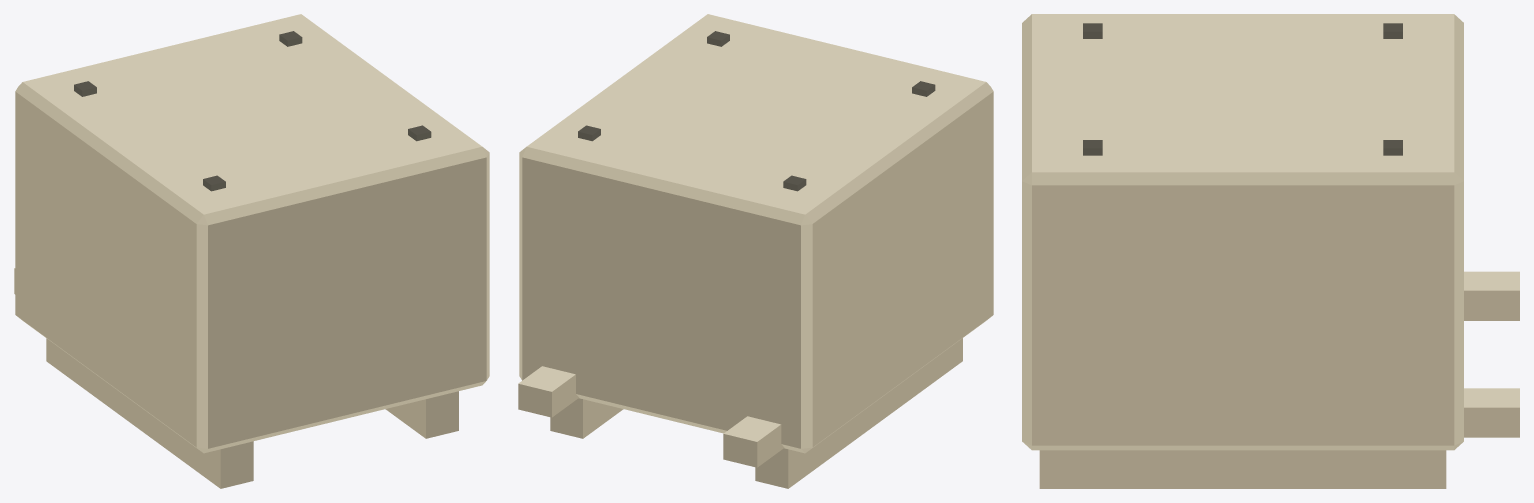
Rendered from ERA_M5_L_LOW_10.glb.
3 renders of one model, left to right at view 1: azimuth 30°, elevation 25°; view 2: azimuth 150°, elevation 25°; view 3: azimuth 270°, elevation 25°, orthographic. The views are drawn at different scales.
Visible parts, largest first — view 1: ERA_M5_L_LOW_10.001; view 2: ERA_M5_L_LOW_10.001; view 3: ERA_M5_L_LOW_10.001.
Boxes of the visible parts, <box> form: ERA_M5_L_LOW_10.001: <box>14,14,489,488</box>; ERA_M5_L_LOW_10.001: <box>518,14,993,488</box>; ERA_M5_L_LOW_10.001: <box>1022,14,1519,488</box>.
Bounding box in the file's own units: 0.3213 × 0.3015 × 0.4055.
